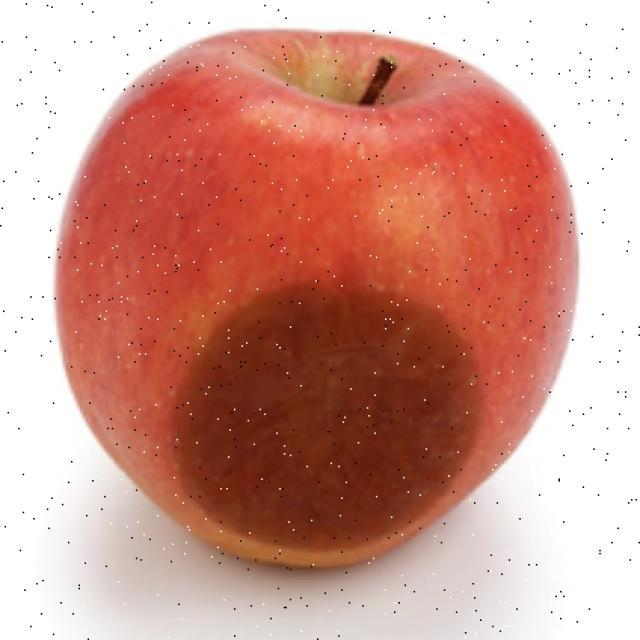Rotten: (84, 43, 578, 547)
